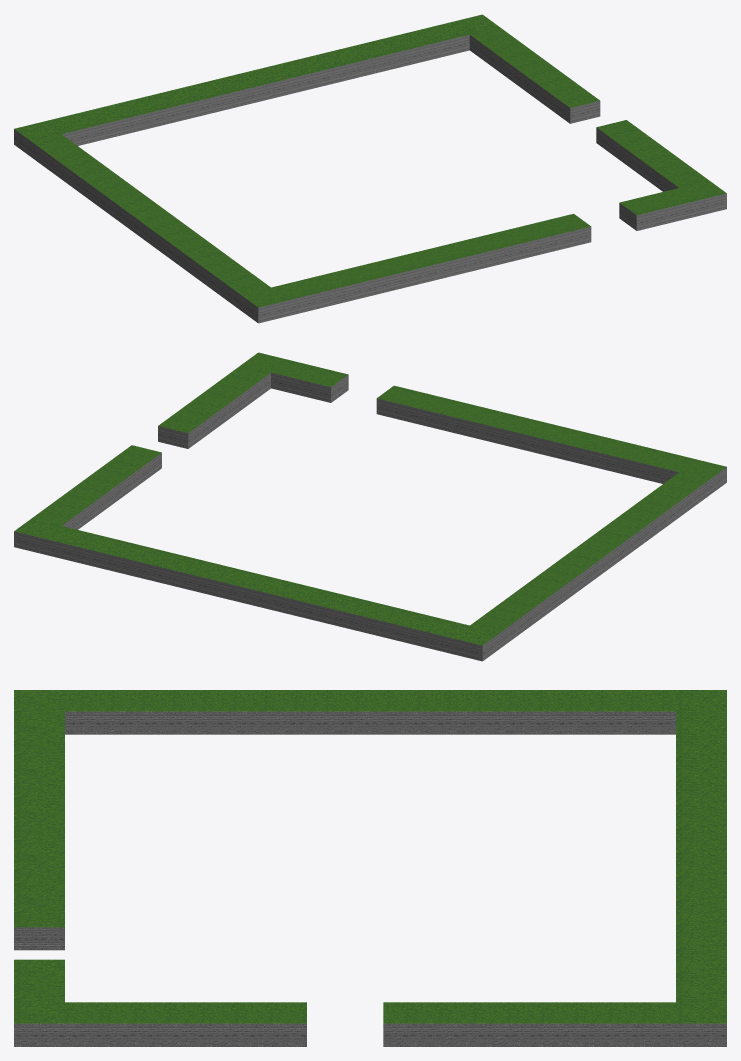
File: BeanWall.glb
The picture shows the model from 3 angles, top to bottom: view 1: azimuth 30°, elevation 25°; view 2: azimuth 150°, elevation 25°; view 3: azimuth 270°, elevation 25°; orthographic projection. The views are drawn at different scales.
Parts seen in each view (by area): view 1: BeanWall22, BeanWall12, BeanWall42, BeanWall32; view 2: BeanWall22, BeanWall12, BeanWall42, BeanWall32; view 3: BeanWall42, BeanWall32, BeanWall22, BeanWall12.
Part boxes in pixels (x1,y1,x2,y2): BeanWall22: (14,14,499,156); BeanWall12: (241,180,726,323); BeanWall42: (31,134,270,310); BeanWall32: (469,27,708,191); BeanWall22: (14,518,499,661); BeanWall12: (241,352,726,494); BeanWall42: (470,472,709,648); BeanWall32: (32,365,270,529); BeanWall42: (65,690,675,734); BeanWall32: (65,1002,675,1046); BeanWall22: (676,690,726,1046); BeanWall12: (14,690,64,1046).
Size of the model in its own units: 31 by 1 by 28.
2 materials, 2 textured.
